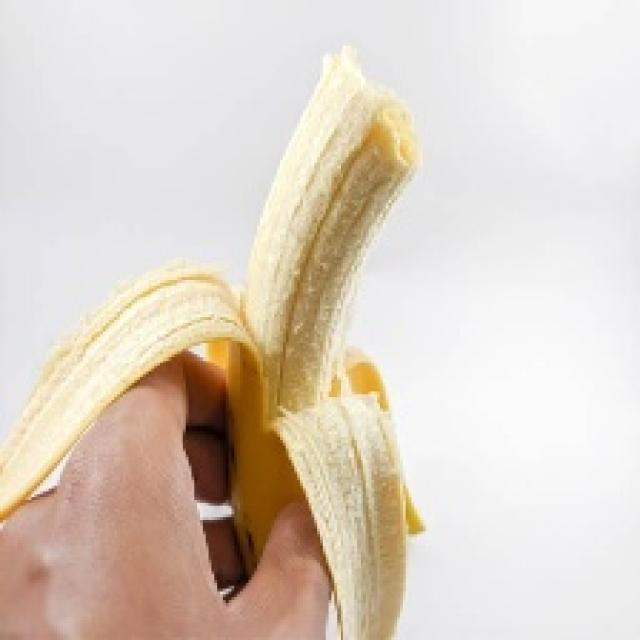Banana: (0, 43, 426, 637)
